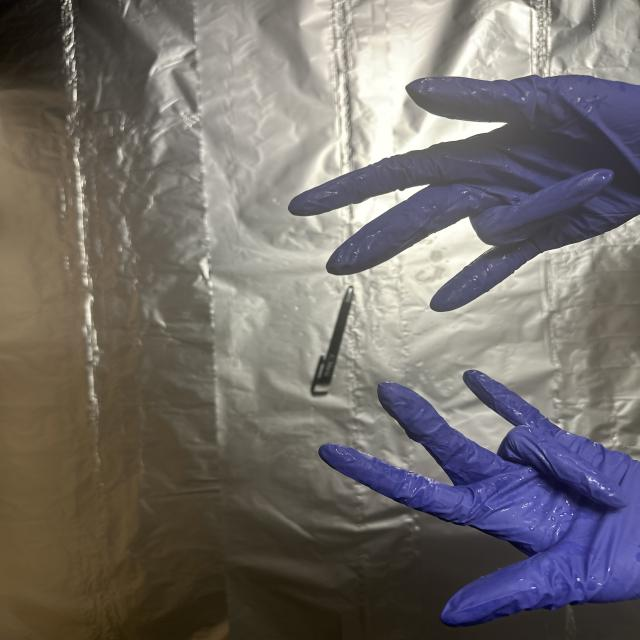gloves_contaminated: (288, 76, 640, 312), (319, 370, 640, 626)
